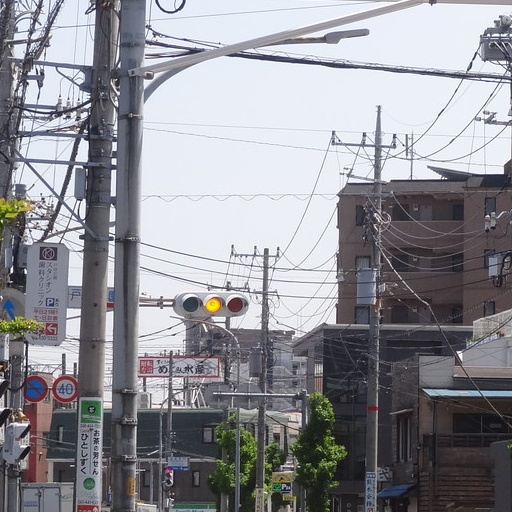Traffic_Signal_Yellow: (174, 285, 251, 318)
